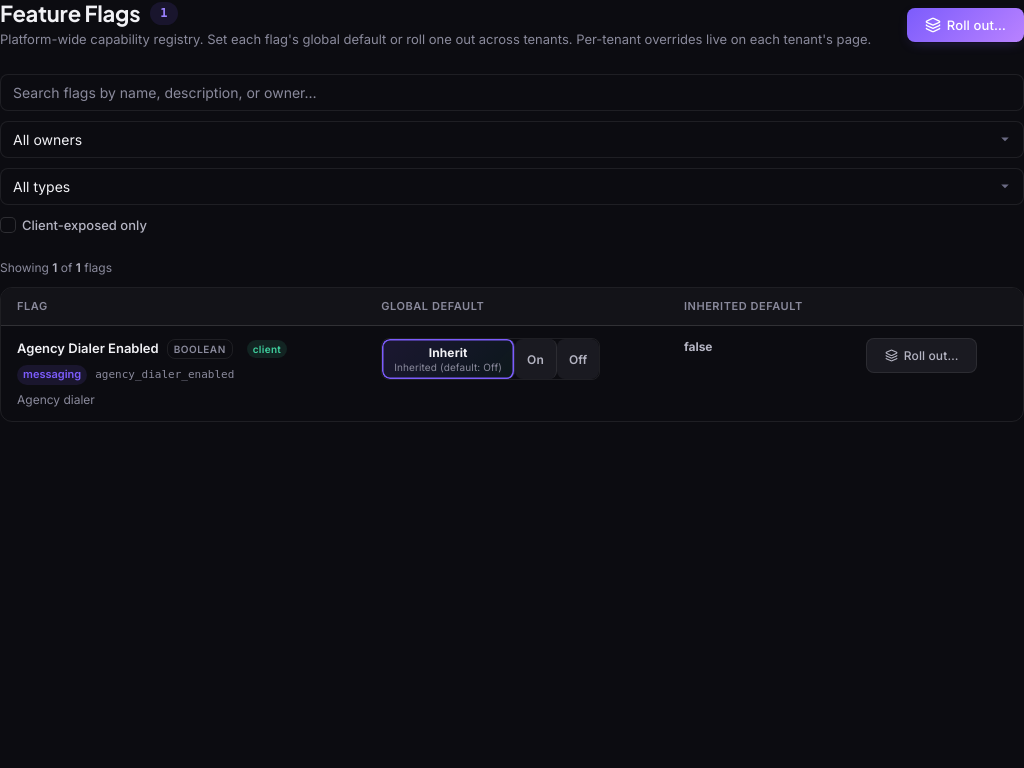
Test: SAFeatureFlagsPage — global default editing › surfaces a failure when saving the global default
Click the radio button labelled "On".
click(536, 360)  # box x1=515 y1=340 x2=557 y2=380
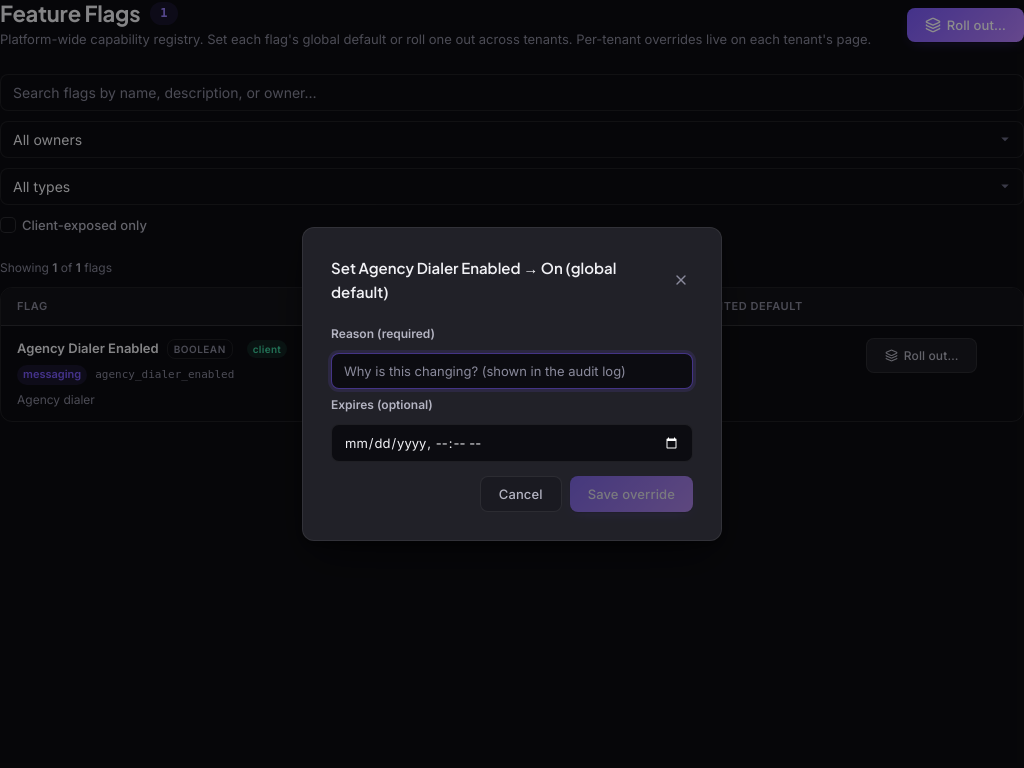
Check: the field labelled "Reason (required)" is shown
Type "x" into the field labelled "Reason (required)".
click(512, 371); type("x")  # box x1=331 y1=353 x2=693 y2=389
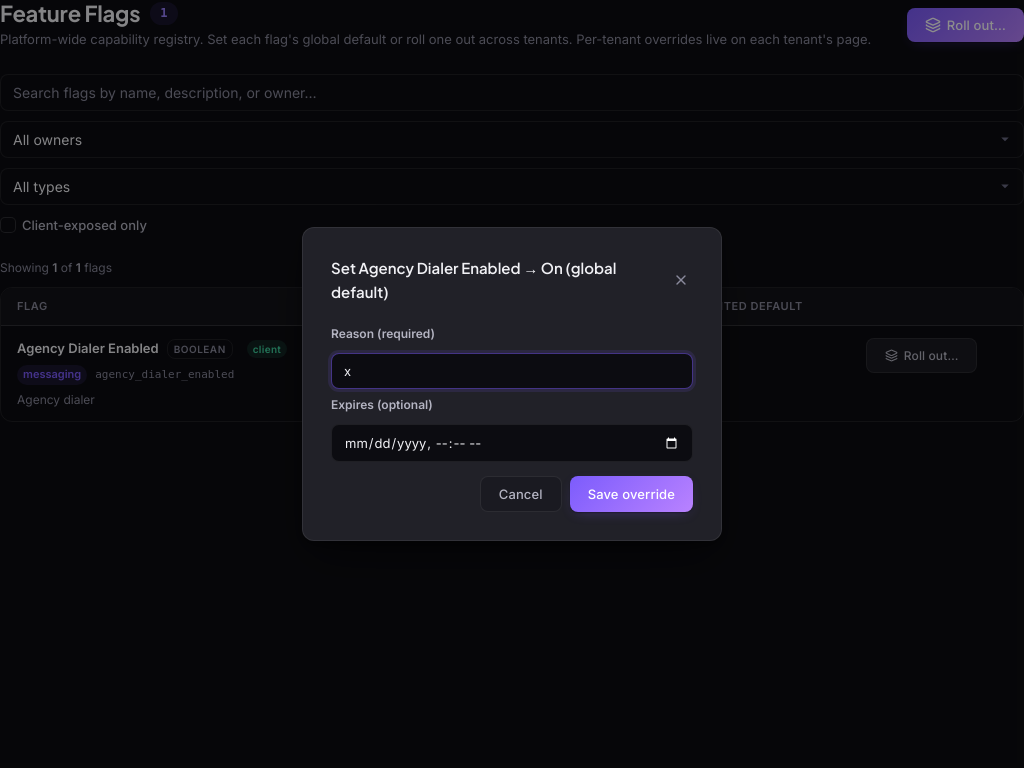
Click the button "Save override".
click(631, 494)  # box x1=570 y1=476 x2=693 y2=512
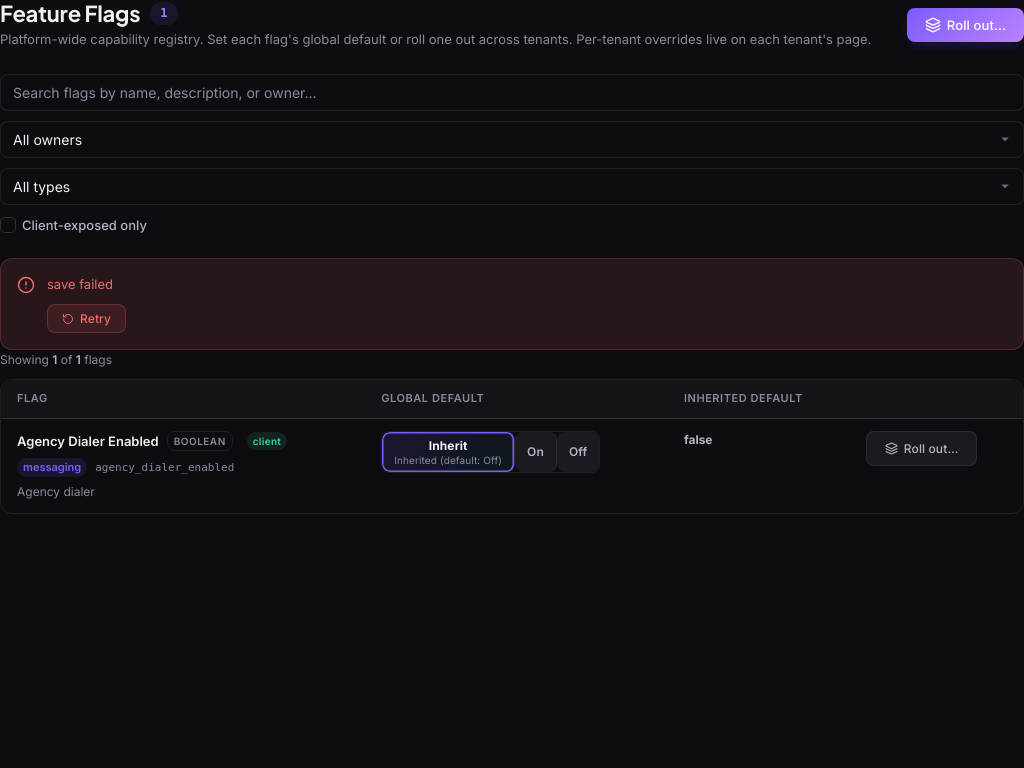
Check: the text "save failed" is shown, box x1=47 y1=276 x2=113 y2=292
